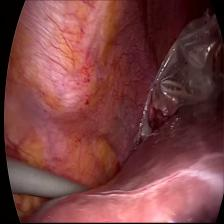Specimen Bag: (131, 0, 224, 152)
